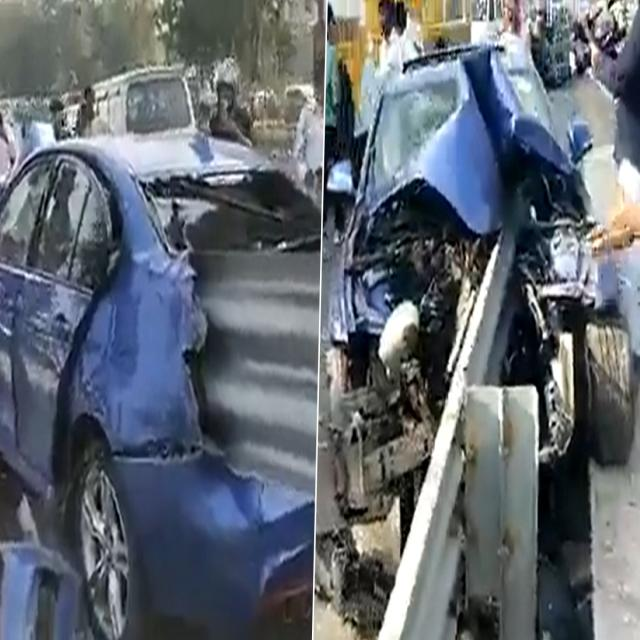accident: (0, 118, 320, 636), (320, 40, 634, 519)
